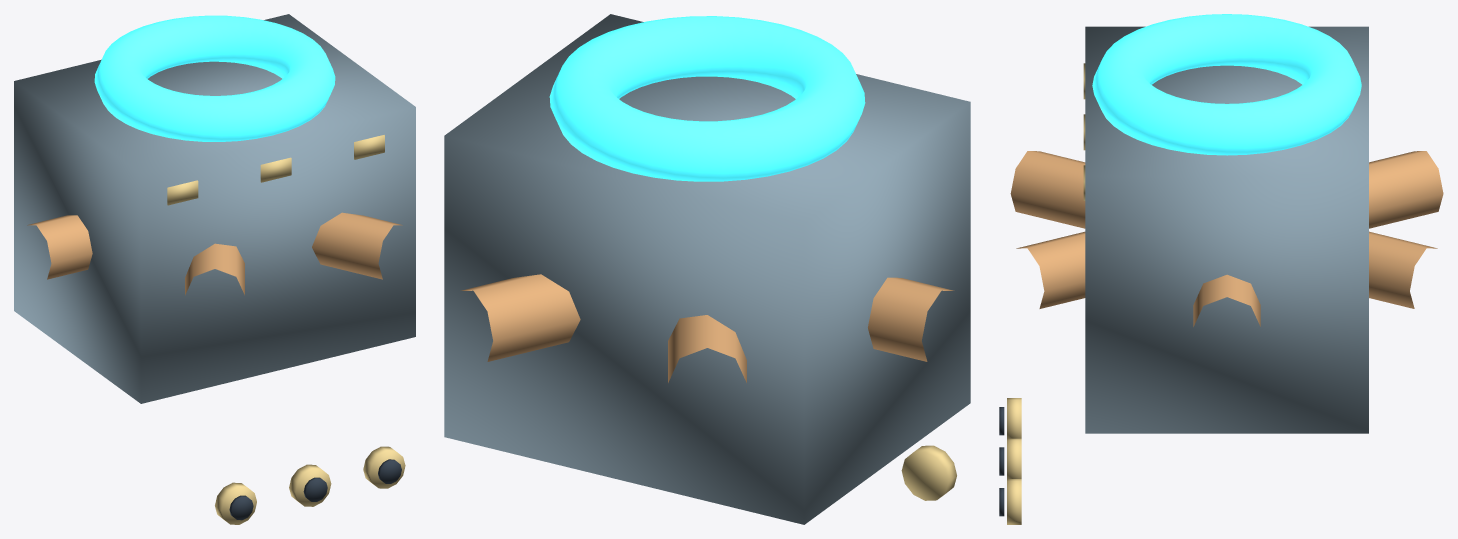
File: 58_L93_VacuumIsolationManifold.glb
3 views of the same model, side by side, from view 1: azimuth 30°, elevation 25°; view 2: azimuth 150°, elevation 25°; view 3: azimuth 270°, elevation 25° (orthographic). The views are drawn at different scales.
Parts seen in each view (by area): view 1: L92_VacuumIsolationManifold_Part_0000, L92_VacuumIsolationManifold_Part_0002, L92_VacuumIsolationManifold_Part_0001, L92_VacuumIsolationManifold_Part_0003, L92_VacuumIsolationManifold_Part_0008, L92_VacuumIsolationManifold_Part_0006, L92_VacuumIsolationManifold_Part_0004, L92_VacuumIsolationManifold_Part_0005, L92_VacuumIsolationManifold_Part_0007, L92_VacuumIsolationManifold_Part_0009; view 2: L92_VacuumIsolationManifold_Part_0000, L92_VacuumIsolationManifold_Part_0002, L92_VacuumIsolationManifold_Part_0001, L92_VacuumIsolationManifold_Part_0004; view 3: L92_VacuumIsolationManifold_Part_0000, L92_VacuumIsolationManifold_Part_0002, L92_VacuumIsolationManifold_Part_0001, L92_VacuumIsolationManifold_Part_0008, L92_VacuumIsolationManifold_Part_0004, L92_VacuumIsolationManifold_Part_0006.
Part boxes in pixels (left/top/right/bottom): L92_VacuumIsolationManifold_Part_0000: left=14, top=14, right=415, bottom=403; L92_VacuumIsolationManifold_Part_0002: left=94, top=15, right=335, bottom=141; L92_VacuumIsolationManifold_Part_0001: left=27, top=212, right=402, bottom=295; L92_VacuumIsolationManifold_Part_0003: left=167, top=135, right=384, bottom=205; L92_VacuumIsolationManifold_Part_0008: left=363, top=446, right=405, bottom=488; L92_VacuumIsolationManifold_Part_0006: left=289, top=464, right=331, bottom=506; L92_VacuumIsolationManifold_Part_0004: left=215, top=482, right=256, bottom=524; L92_VacuumIsolationManifold_Part_0005: left=229, top=495, right=253, bottom=520; L92_VacuumIsolationManifold_Part_0007: left=303, top=477, right=327, bottom=501; L92_VacuumIsolationManifold_Part_0009: left=378, top=459, right=401, bottom=483; L92_VacuumIsolationManifold_Part_0000: left=444, top=14, right=970, bottom=524; L92_VacuumIsolationManifold_Part_0002: left=549, top=16, right=865, bottom=181; L92_VacuumIsolationManifold_Part_0001: left=460, top=274, right=954, bottom=382; L92_VacuumIsolationManifold_Part_0004: left=901, top=445, right=956, bottom=500; L92_VacuumIsolationManifold_Part_0000: left=1085, top=26, right=1368, bottom=433; L92_VacuumIsolationManifold_Part_0002: left=1092, top=14, right=1361, bottom=155; L92_VacuumIsolationManifold_Part_0001: left=1010, top=151, right=1443, bottom=326; L92_VacuumIsolationManifold_Part_0008: left=1007, top=479, right=1021, bottom=524; L92_VacuumIsolationManifold_Part_0004: left=1007, top=398, right=1021, bottom=438; L92_VacuumIsolationManifold_Part_0006: left=1007, top=438, right=1021, bottom=478.
Size of the model in its own units: 1.3 by 1.31 by 1.25.
